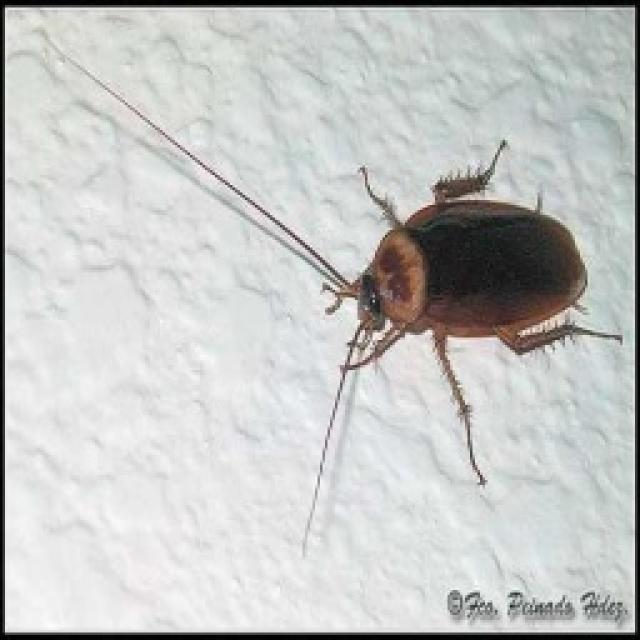cockroach: (323, 194, 591, 388)
